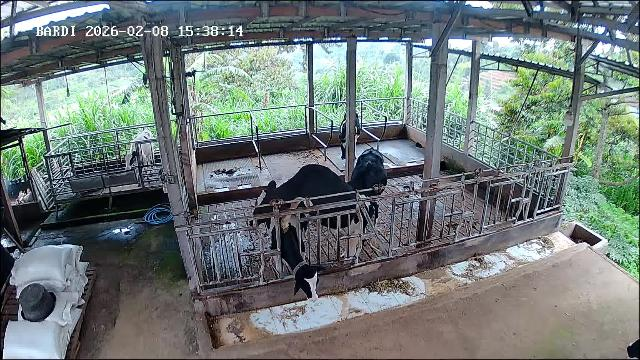mounting: (251, 165, 377, 259)
